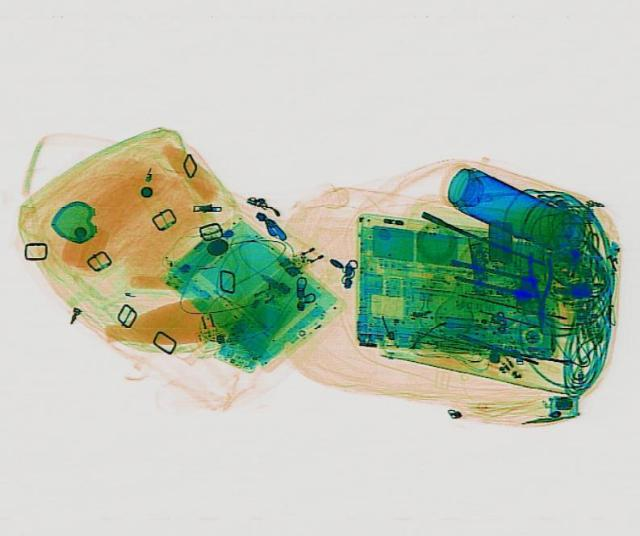Pliers: (524, 252, 554, 330)
